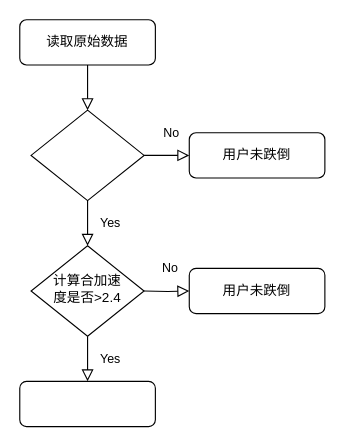
Image size: 345x446. Some labels were removed from this diagram. Here are the shapes that lost their labels. From the top down, the centre of each, then its label:
point (87, 155): 各方向偏转角 度是否＞40°
point (87, 403): 用户跌倒
